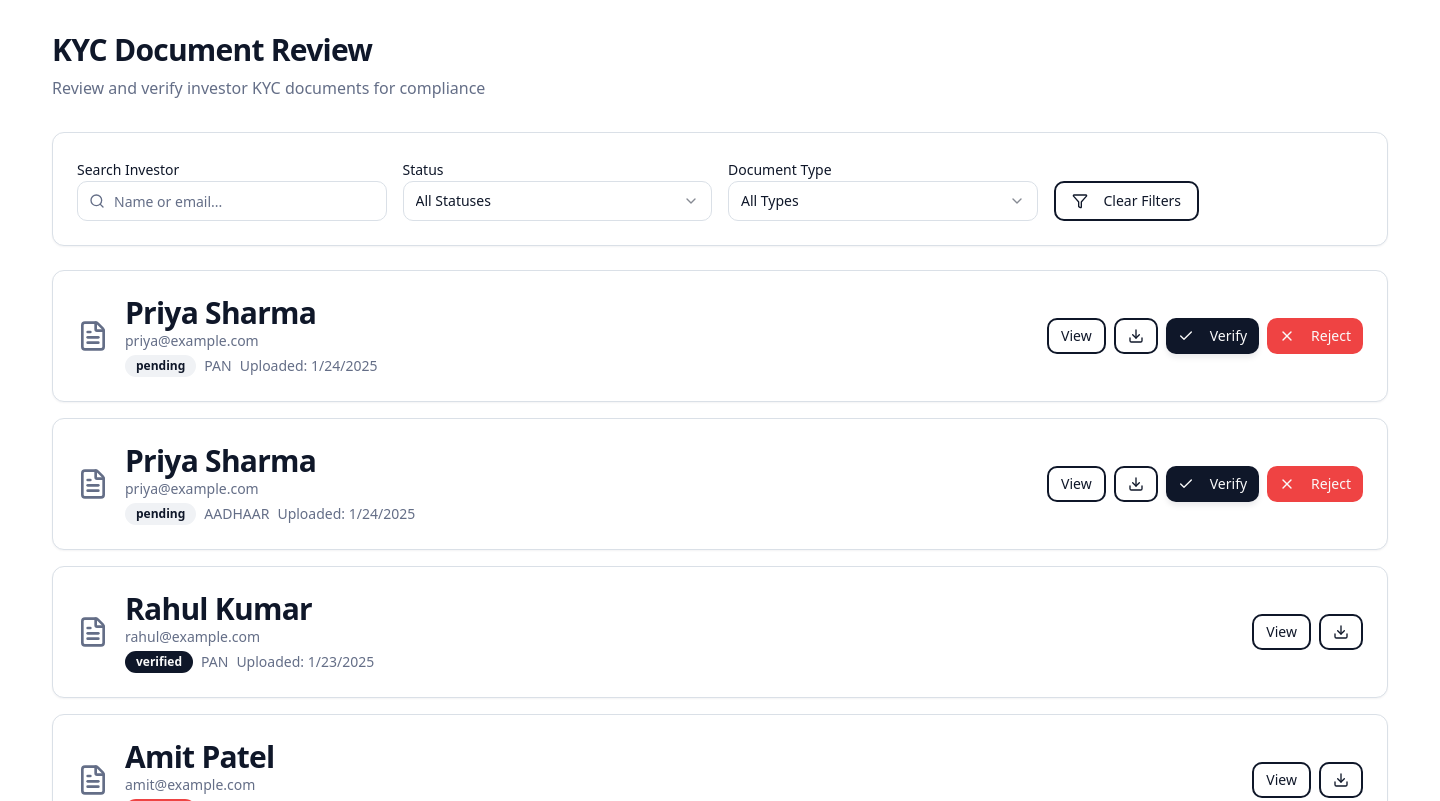
Test case: US-COMPLIANCE-001: KYC Document Review › Document Verification › should allow marking document as verified
The image size is (1440, 801).
Expected: the 1st heading "Priya Sharma" is shown, top-left (125, 292), bottom-right (316, 333)
Note: Click verify button (should be available for pending documents)
Click the 1st button "Verify" at coordinates (1212, 336), box top-left (1166, 318), bottom-right (1259, 354)
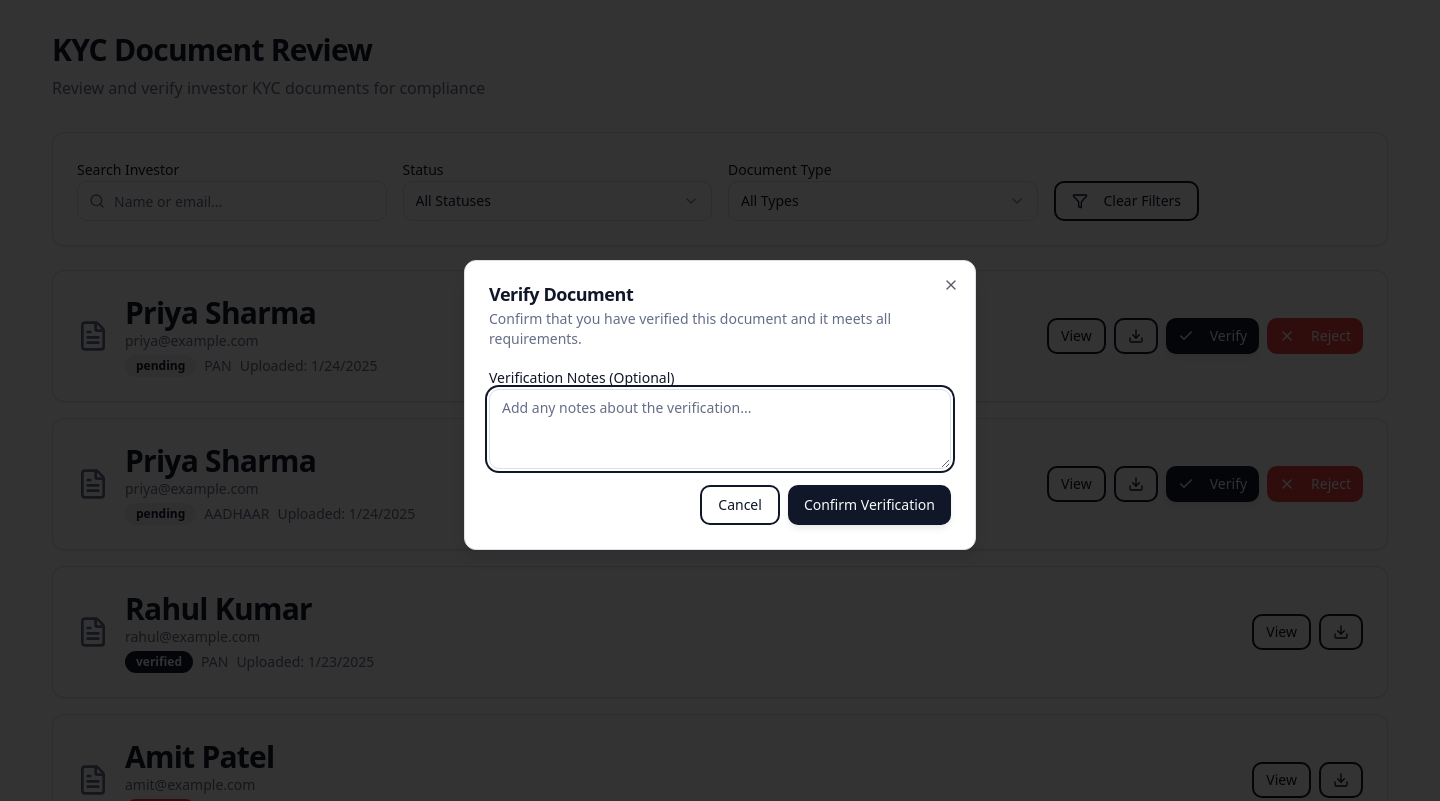
Result: the dialog is shown at top-left (464, 260), bottom-right (976, 550)
Result: the heading "Verify Document" is shown at top-left (489, 282), bottom-right (633, 306)
